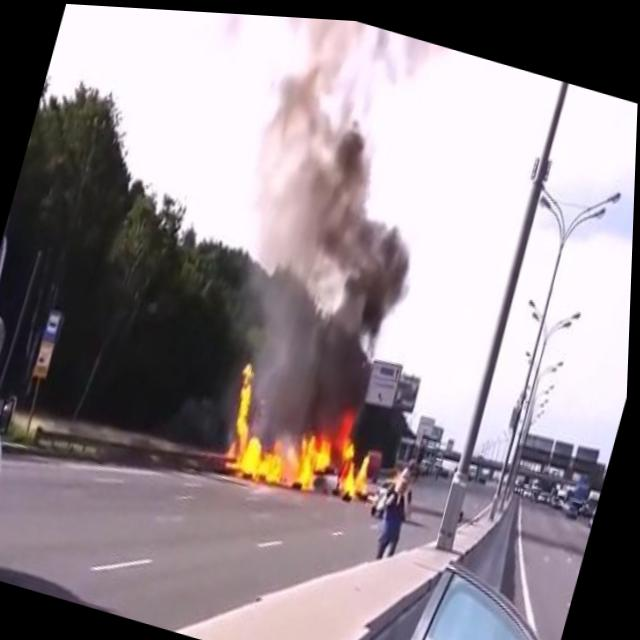fire: (207, 347, 368, 506), (338, 436, 383, 499)
